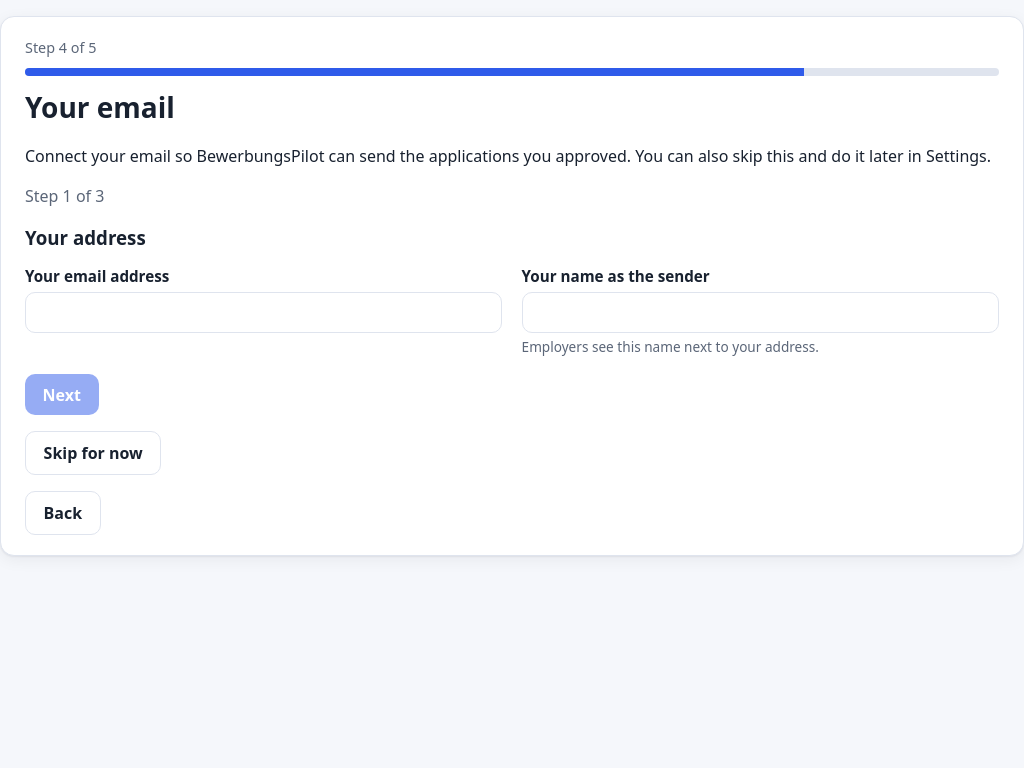
Test: OnboardingWizard › goes back one step
Expected: the text "Step 4 of 5" is shown, [25, 38, 96, 57]
Click the button "Back": (63, 513) [25, 491, 101, 535]
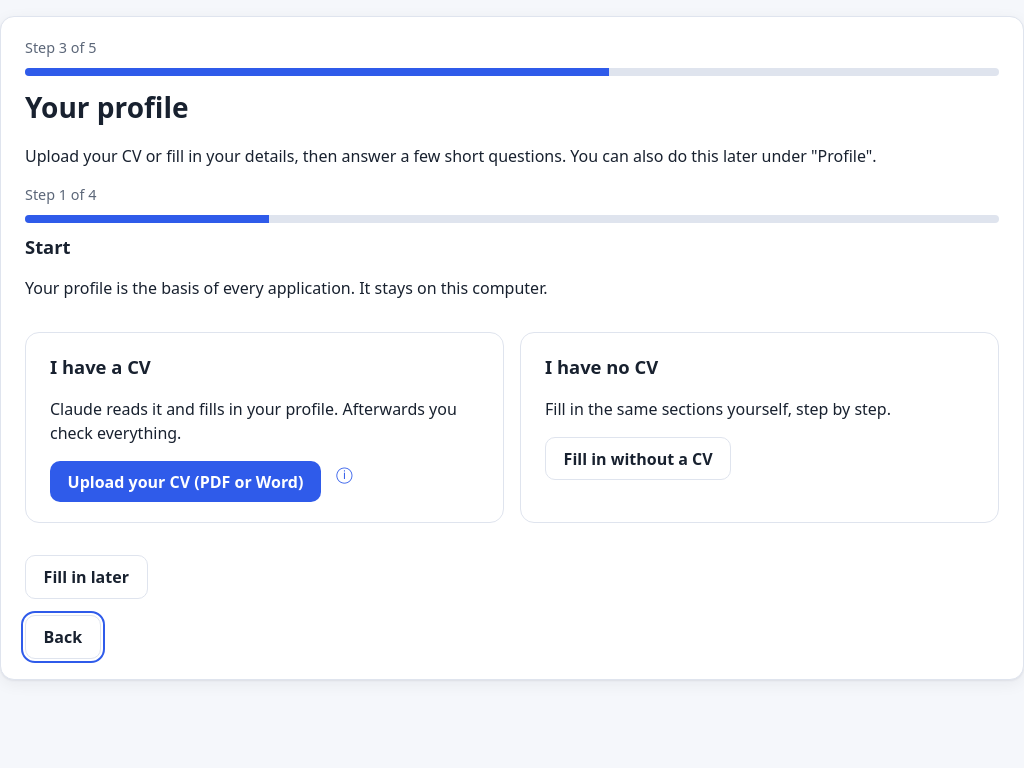
Expected: the text "Step 3 of 5" is shown, [25, 38, 96, 57]
